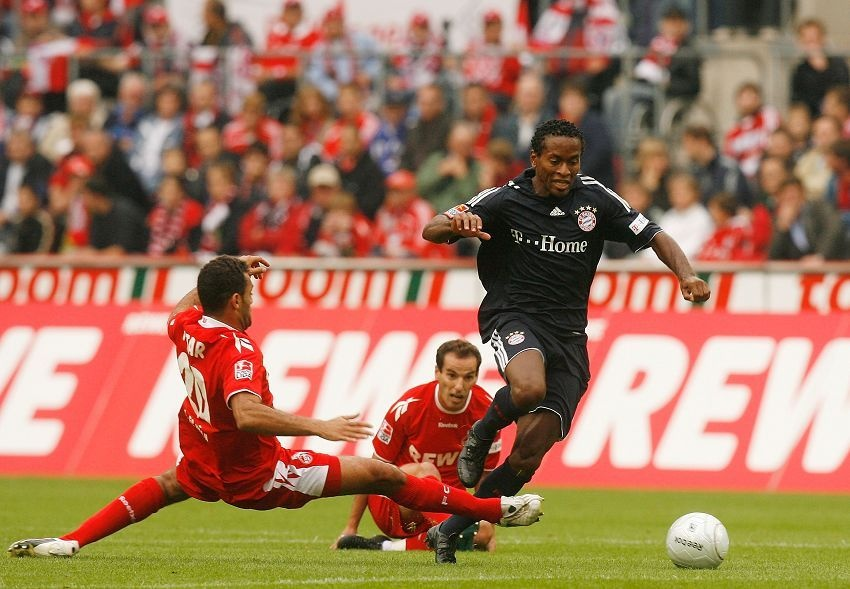falling: (0, 250, 503, 568)
